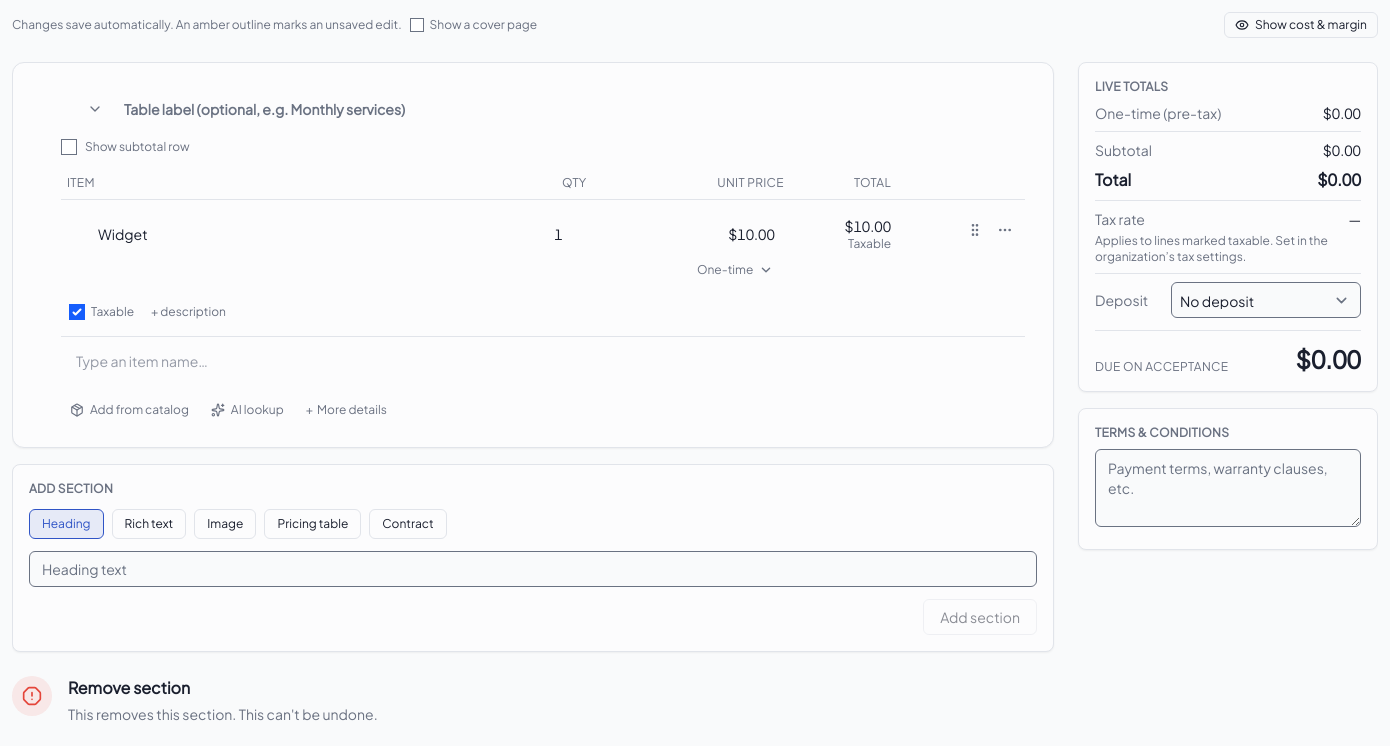
Test: QuoteEditor — add line image from URL › Fetch is disabled until a URL is entered
Expected: the row with test id "quote-line-line-1" is shown, [61,200,1025,292]
Click the button with test id "quote-line-actions-line-1" at point(1005, 230), box [991,216,1019,244]
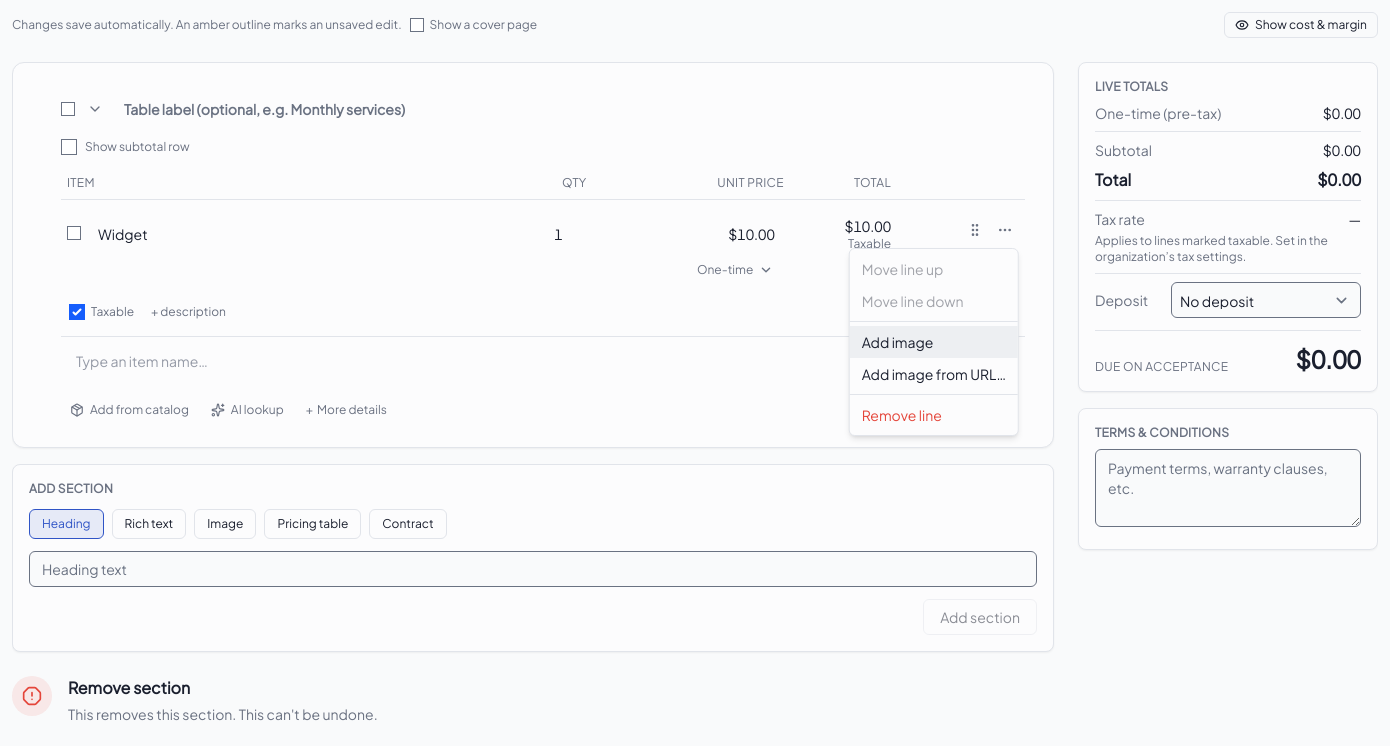
Click the menu item with test id "quote-line-image-url-toggle-line-1" at point(934, 374), box [850,358,1018,390]
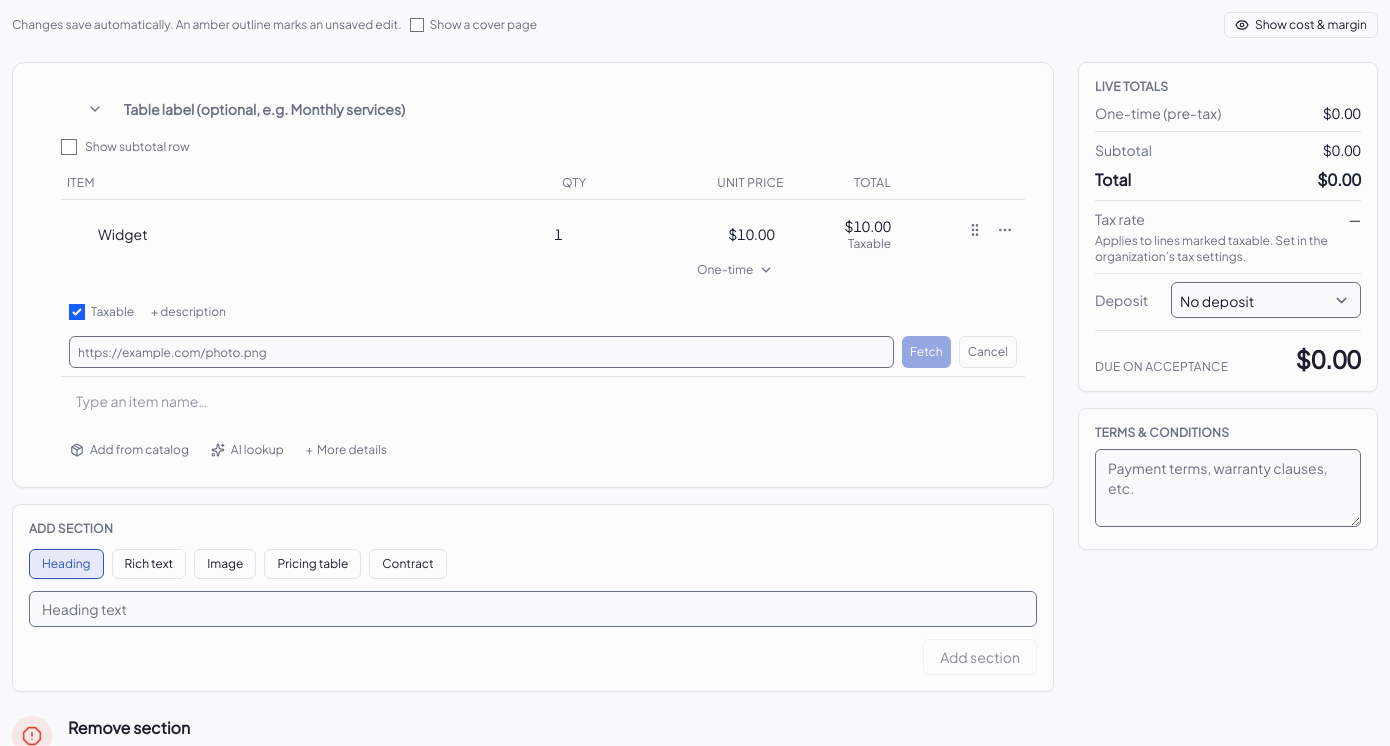
Expected: the button with test id "quote-line-image-url-fetch-line-1" is disabled, [902,336,951,368]
Type "https://x/y.png" into the field with test id "quote-line-image-url-input-line-1" at point(482, 352), box [69,336,894,368]
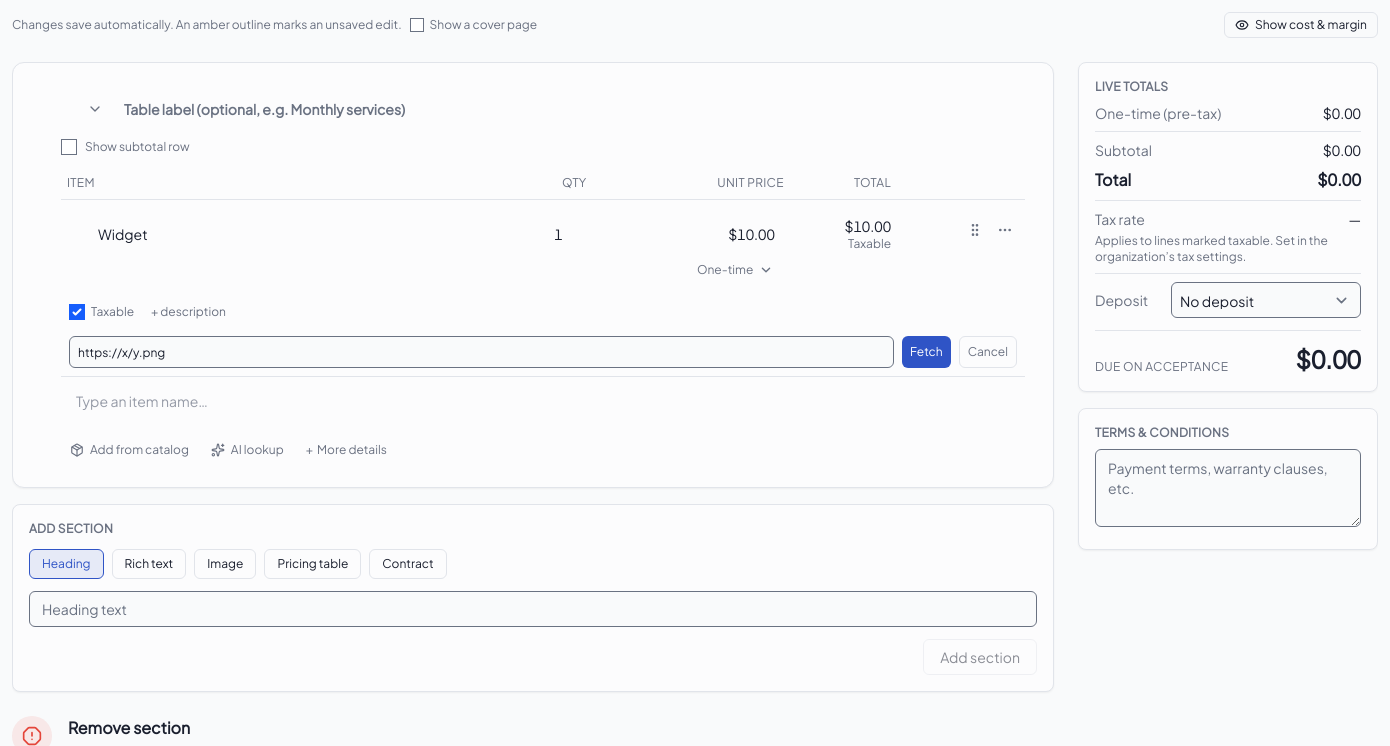
Expected: the button with test id "quote-line-image-url-fetch-line-1" is enabled, [902,336,951,368]
